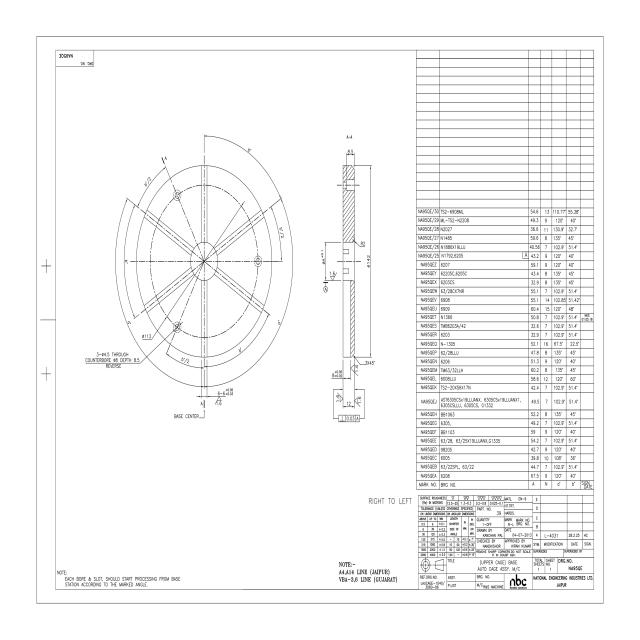dimension: (85, 350, 140, 369), (216, 387, 234, 397), (143, 176, 153, 188), (331, 369, 343, 379), (278, 226, 285, 240), (142, 332, 152, 341), (181, 355, 190, 365), (366, 253, 371, 270), (364, 360, 376, 367), (321, 248, 325, 266), (126, 318, 132, 328), (346, 148, 354, 155), (346, 400, 354, 407), (237, 346, 243, 355), (123, 257, 129, 266), (359, 240, 366, 247), (246, 146, 252, 154), (276, 318, 282, 326)
